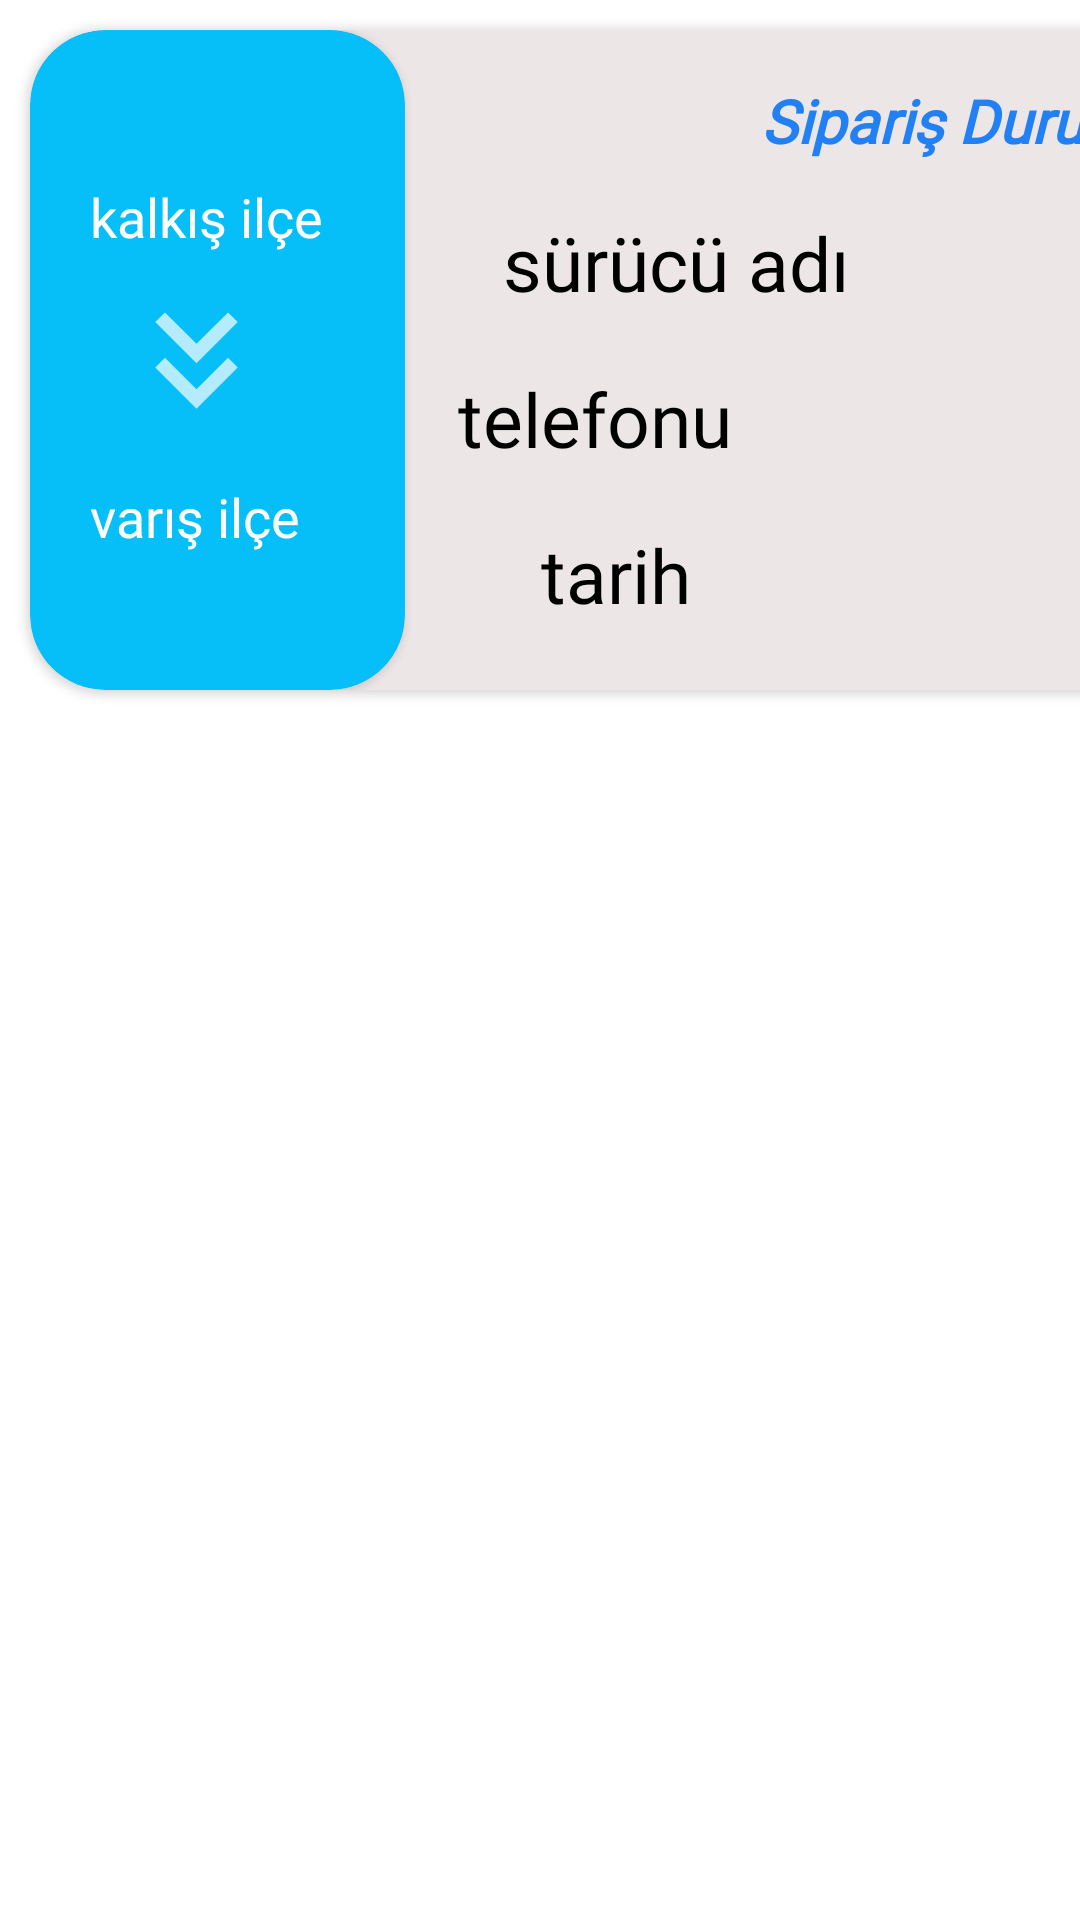

Named icons in this screenshot (1080 × 1920) and their centers, point (x, y):
keyboard double arrow down: point (196, 360)
